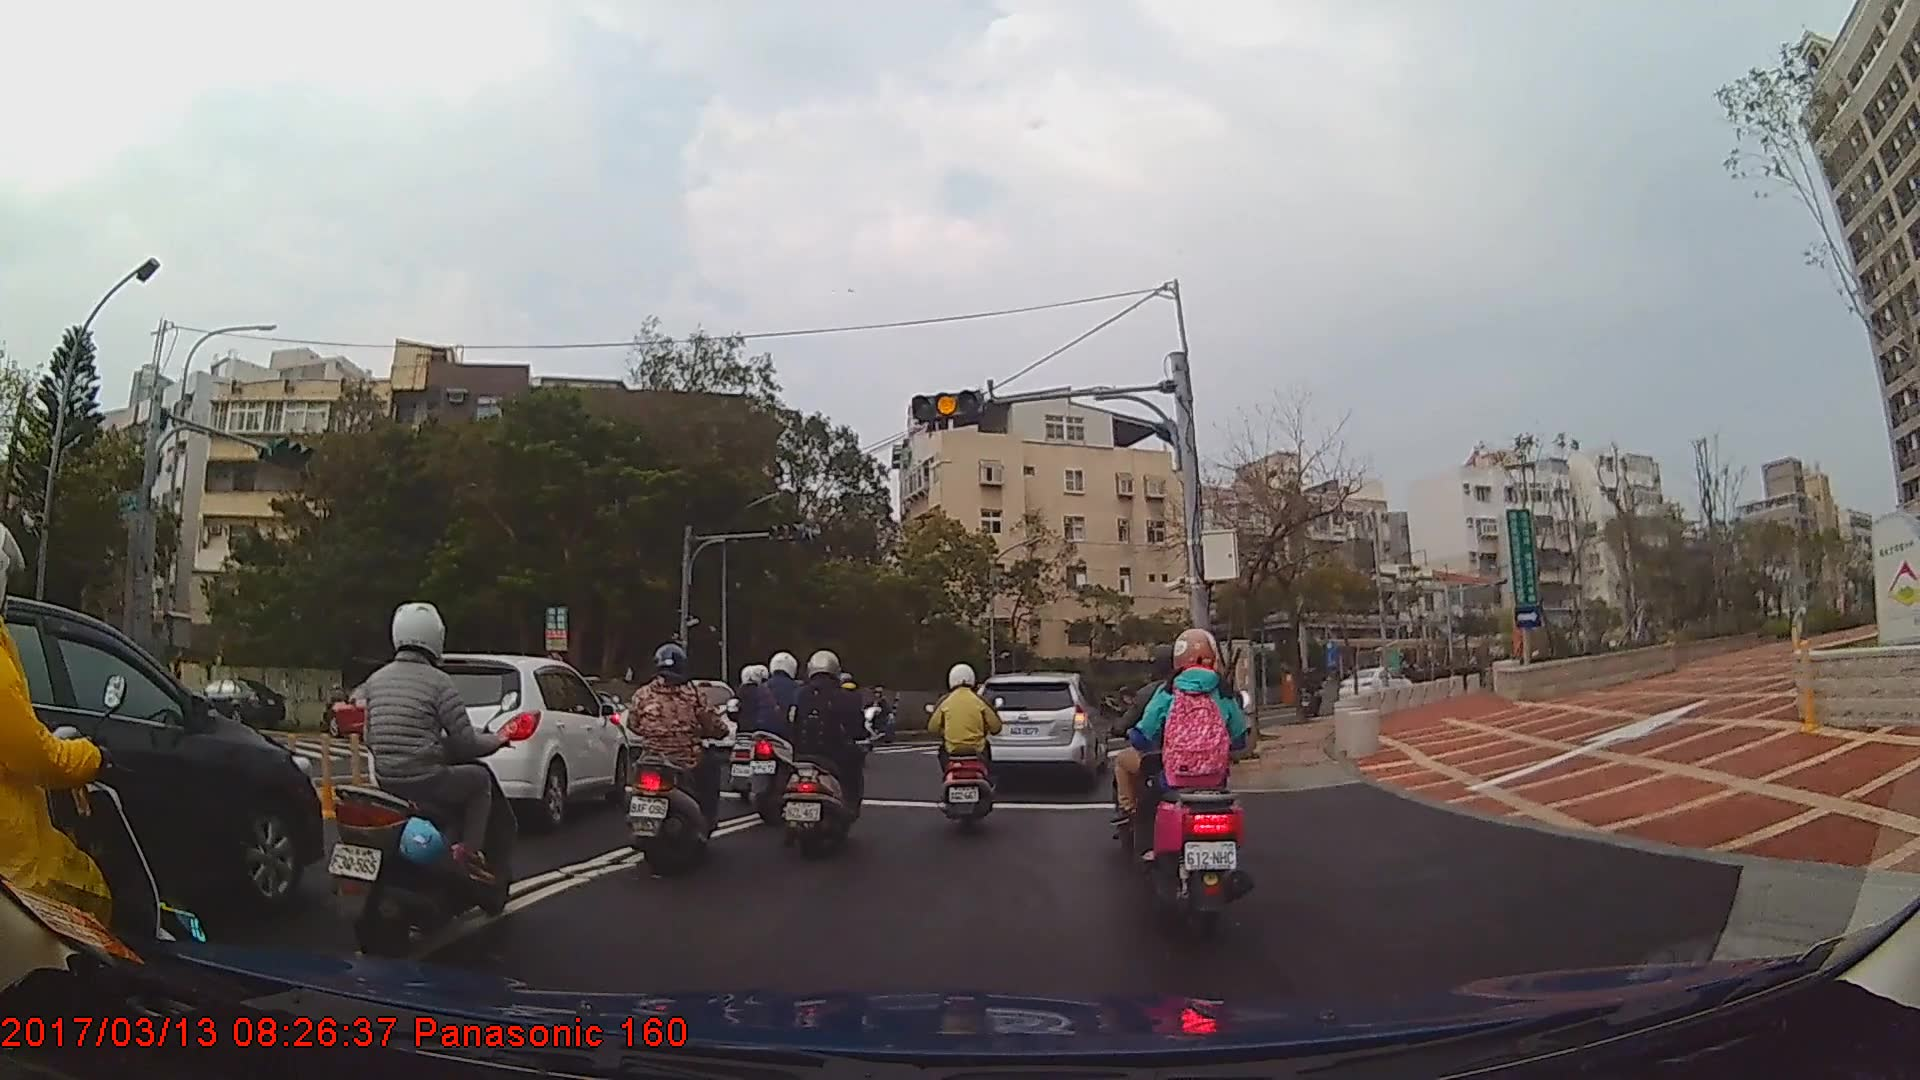rider: (1, 511, 178, 1037), (330, 597, 527, 956), (1130, 627, 1251, 928), (618, 640, 734, 881), (1112, 636, 1223, 858), (779, 645, 875, 861), (926, 663, 1010, 828), (744, 648, 818, 820), (725, 666, 785, 805), (865, 685, 899, 743)
vehicle: (0, 594, 321, 928), (366, 651, 629, 835), (969, 669, 1110, 787), (327, 677, 429, 738), (182, 674, 286, 730), (1338, 666, 1412, 702)
